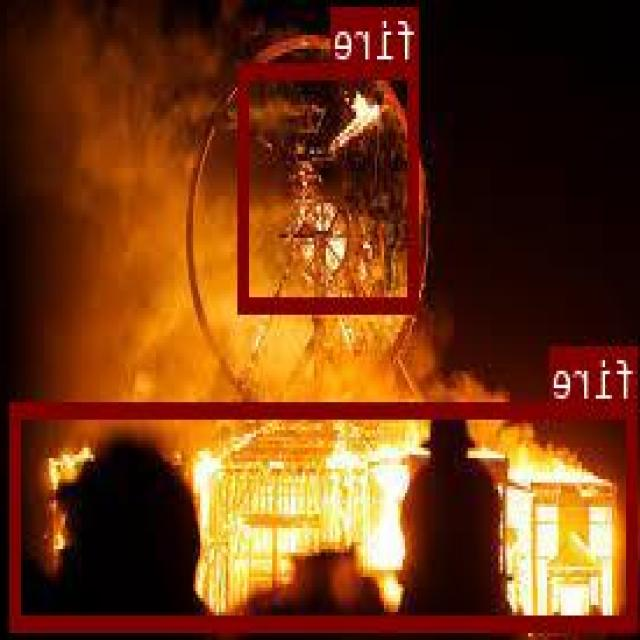fire: (12, 400, 639, 628), (240, 62, 420, 310)
